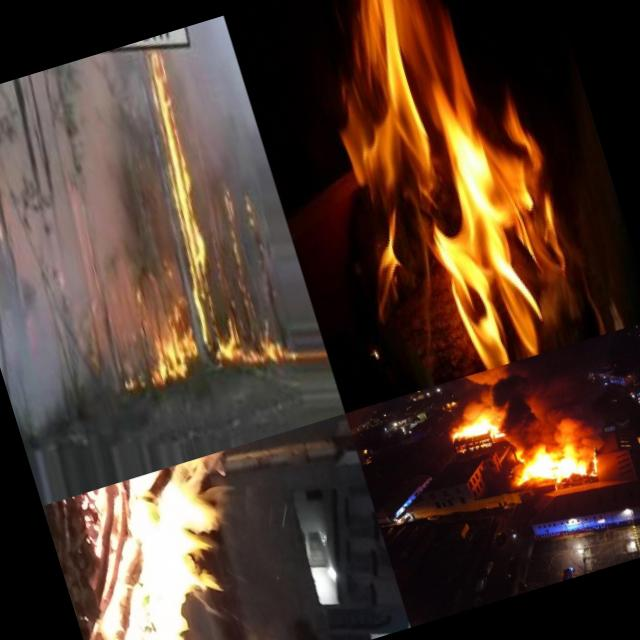fire: (280, 0, 617, 386), (53, 51, 275, 404), (75, 425, 370, 640), (508, 442, 594, 496), (446, 410, 506, 458)
smoke: (0, 99, 146, 428), (501, 392, 608, 464), (486, 344, 586, 418), (450, 370, 498, 420)
